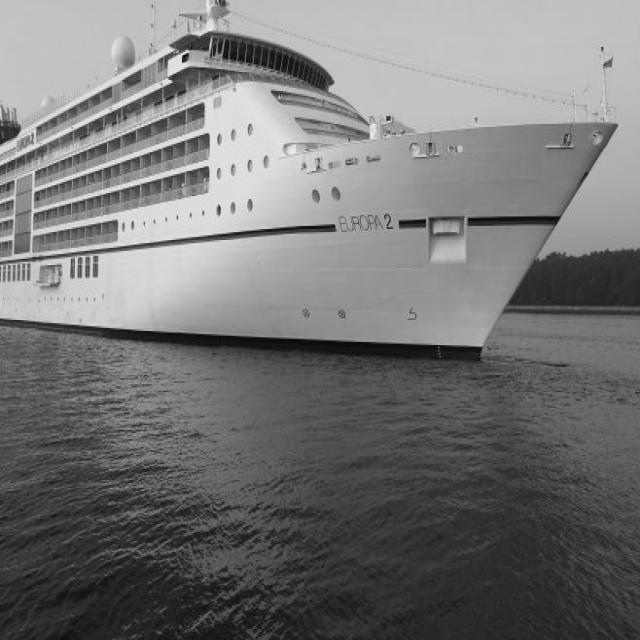cruises: (1, 1, 622, 373)
